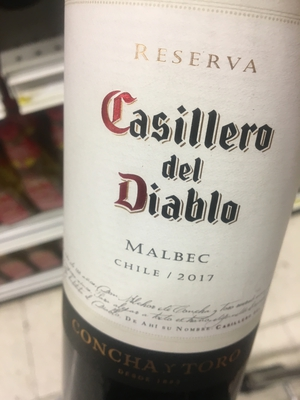casillero del diablo malbec: (58, 1, 299, 393)
